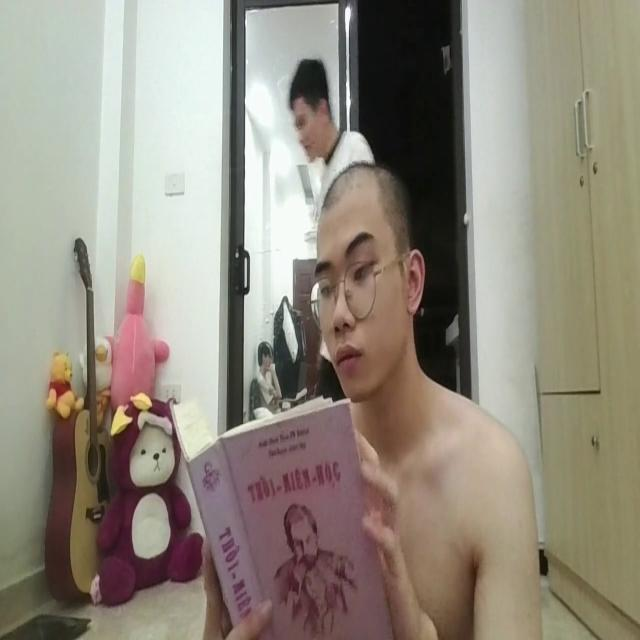book: (164, 386, 398, 640)
extra_person: (290, 62, 380, 208), (251, 327, 273, 401)
student: (316, 166, 538, 640)
